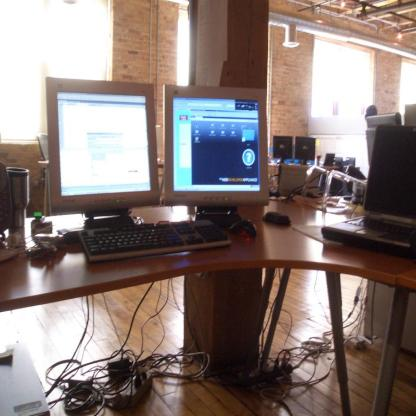board: (323, 122, 416, 256)
